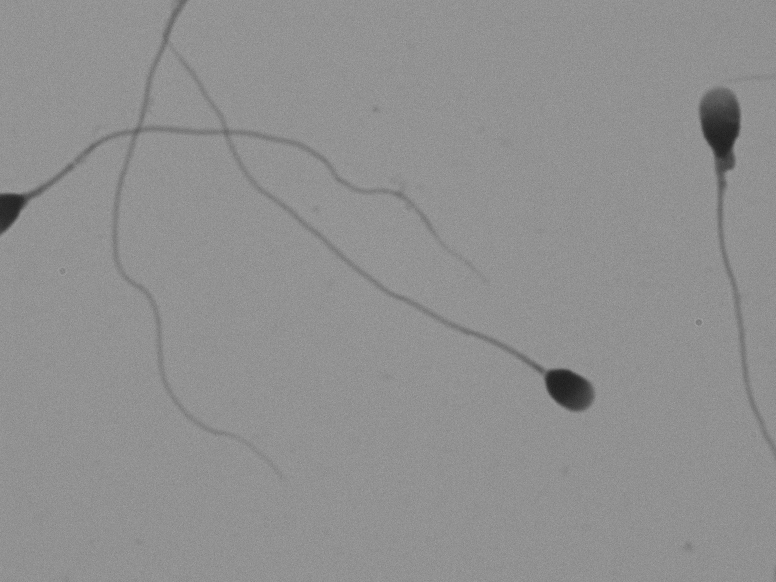Abnormal: (666, 45, 762, 406)
Normal: (201, 87, 649, 454)
